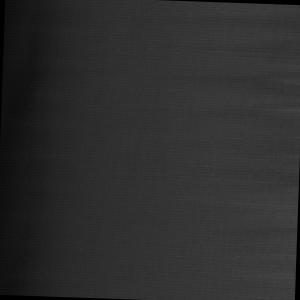Wrinkle: (163, 2, 300, 281), (1, 1, 94, 299)
